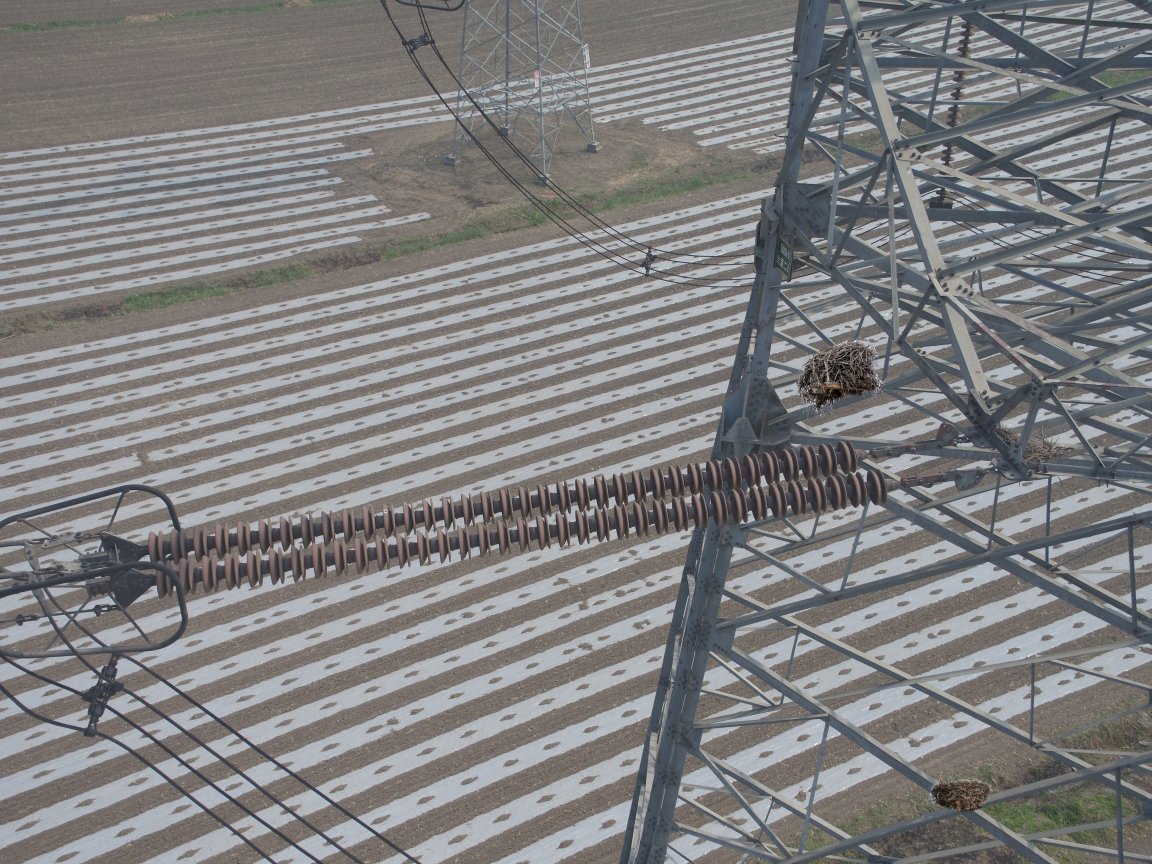nest: (975, 420, 1082, 486), (796, 336, 883, 415), (921, 774, 993, 815)
